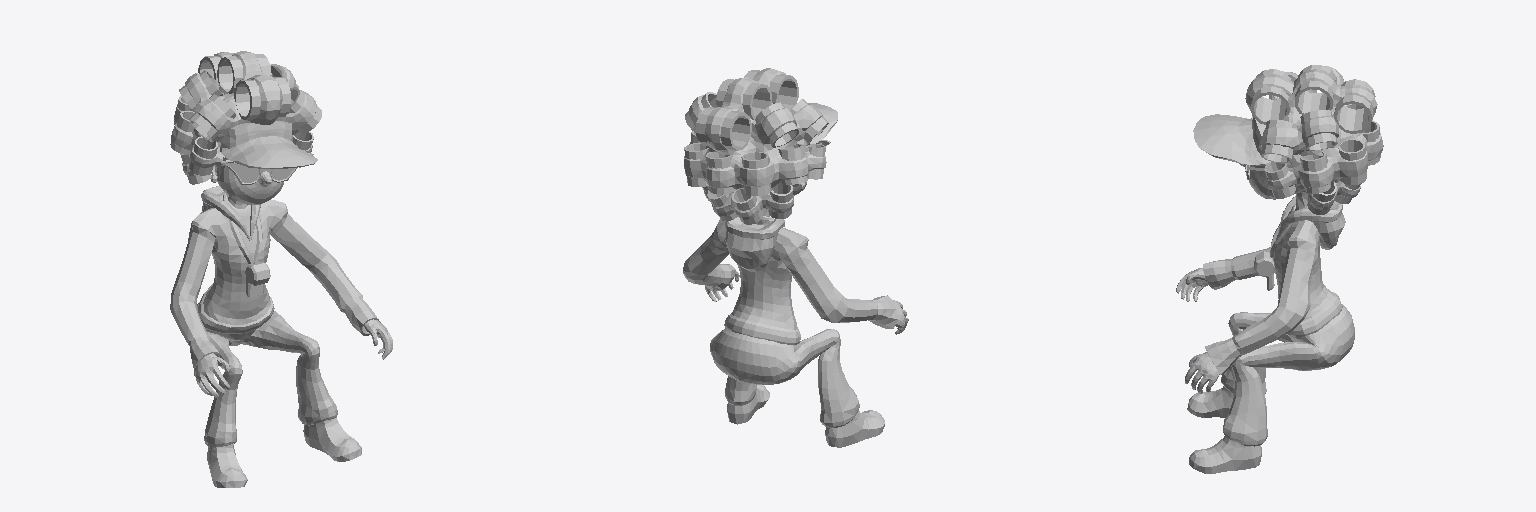
File: humano_mom_3.obj
The picture shows the model from 3 angles: view 1: azimuth 30°, elevation 25°; view 2: azimuth 150°, elevation 25°; view 3: azimuth 270°, elevation 25°; orthographic projection.
Parts seen in each view (by area): view 1: Fitness_Grandma_BodyGeo; view 2: Fitness_Grandma_BodyGeo; view 3: Fitness_Grandma_BodyGeo.
Boxes of the visible parts, x1,y1,x2,y2 form: Fitness_Grandma_BodyGeo: [170, 51, 392, 487]; Fitness_Grandma_BodyGeo: [683, 68, 908, 447]; Fitness_Grandma_BodyGeo: [1176, 65, 1383, 473].
Bounding box in the file's own units: 0.6271 × 1.16 × 0.5761.